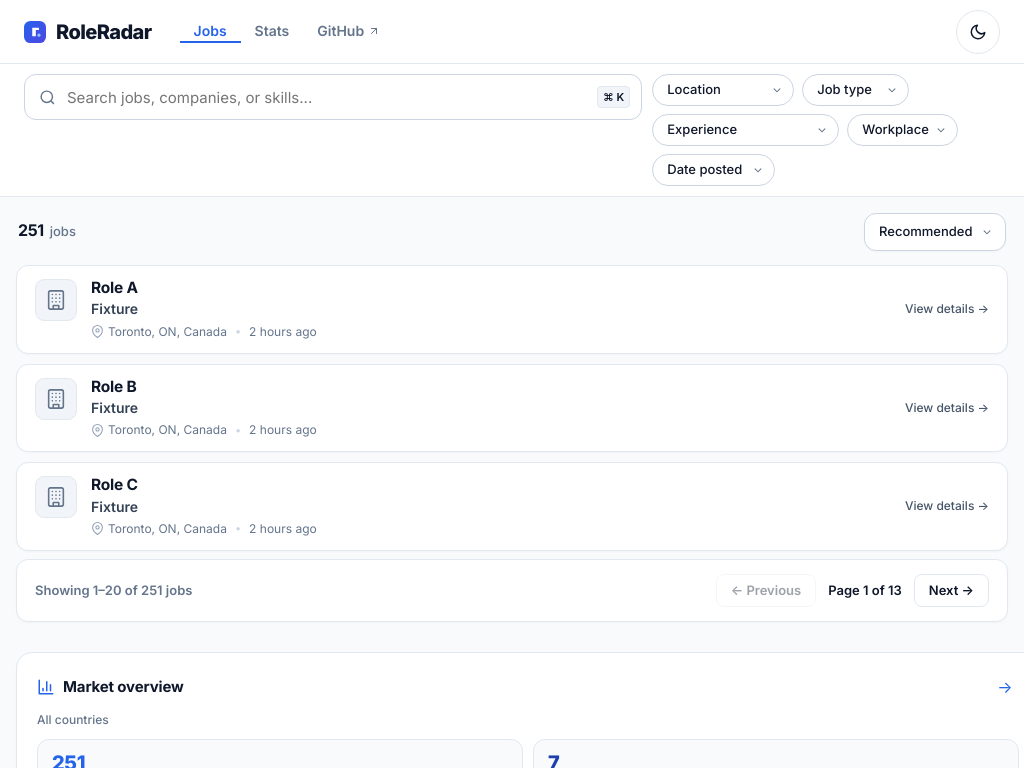
Scenario: every visible job count follows the selected country › fresh /jobs shows the global feed everywhere; Canada and United States counts appear only once selected
Check: the text "All countries" is shown, box [37,712,109,727]
Check: the text "Country: Canada" is not shown
Select "Canada" in the dropdown named "Location" at (723, 90), box [652,74,794,106]
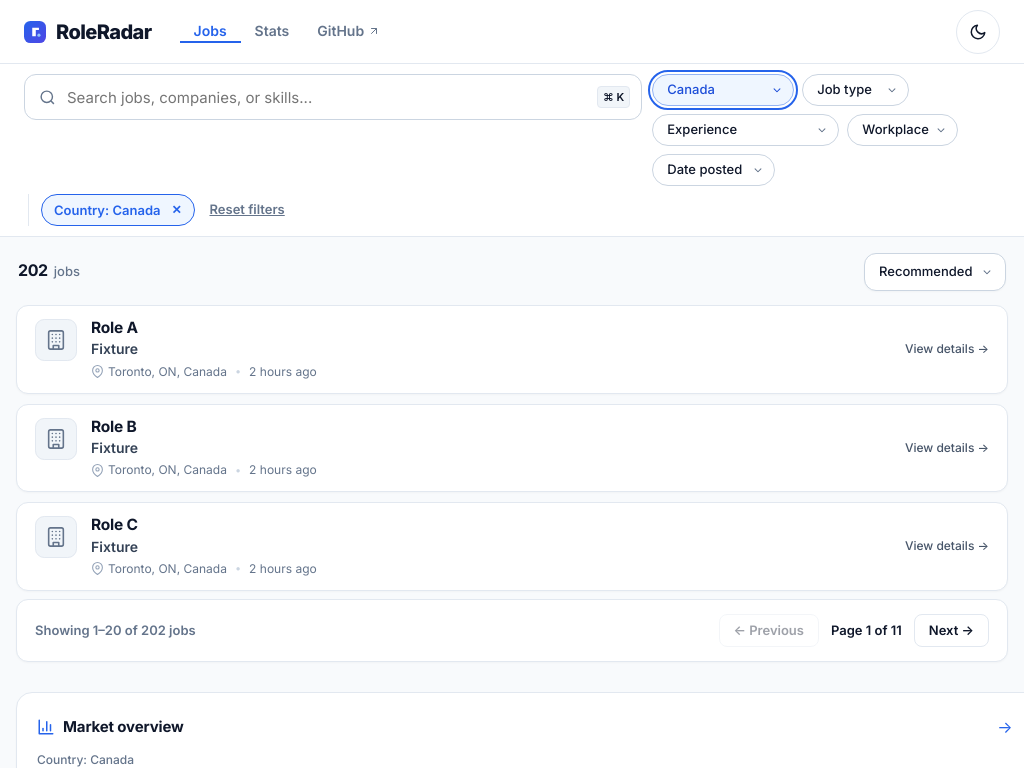
Check: the text "Country: Canada" below "Market overview" is shown, box [37,752,134,767]
Select "United States" in the dropdown named "Location" at (723, 90), box [652,74,794,106]
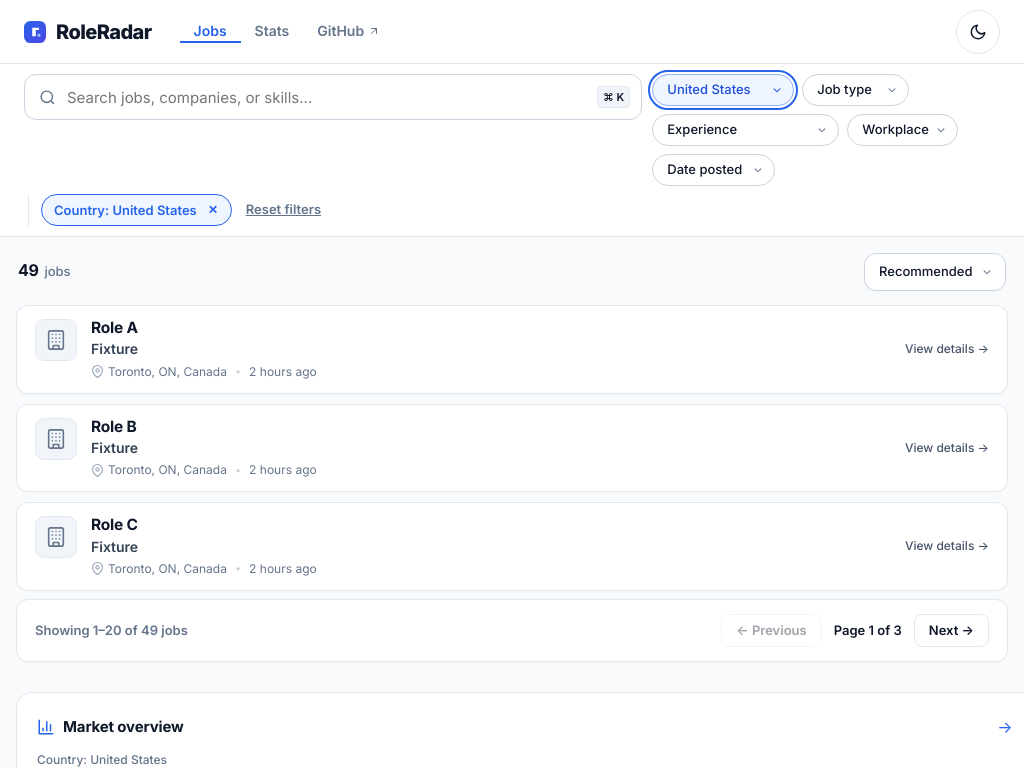
Check: the text "Country: United States" below "Market overview" is shown, box [37,752,167,767]
Select "Location" in the dropdown named "Location" at (723, 90), box [652,74,794,106]
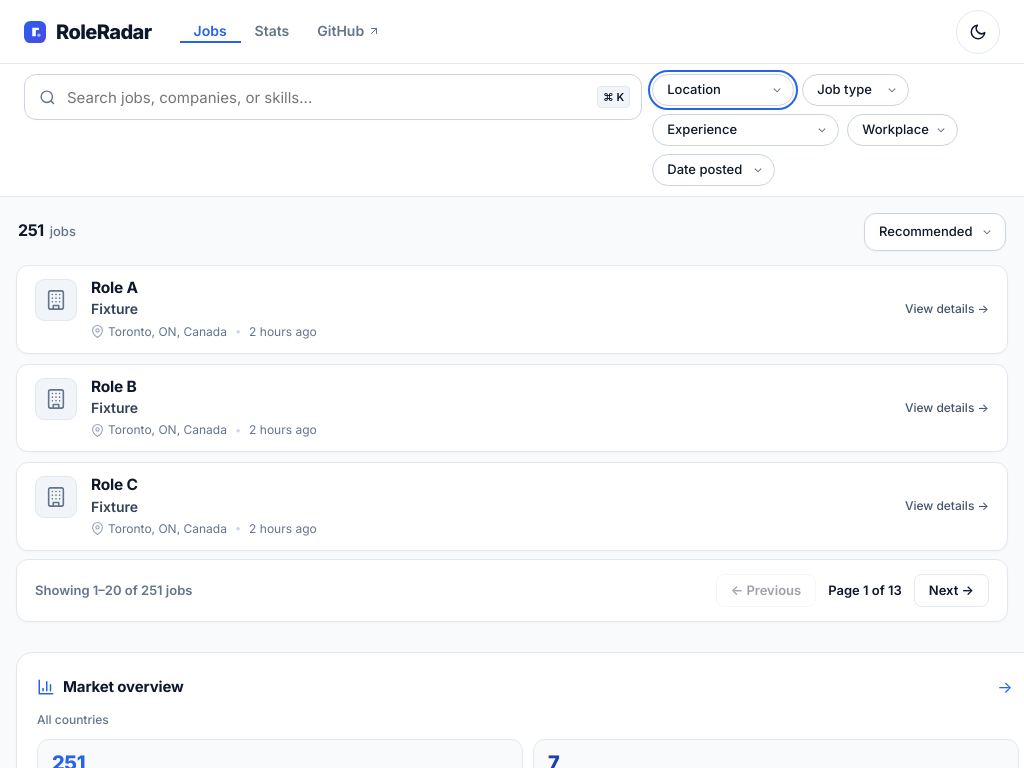
Check: the text "All countries" is shown, box [37,712,109,727]
